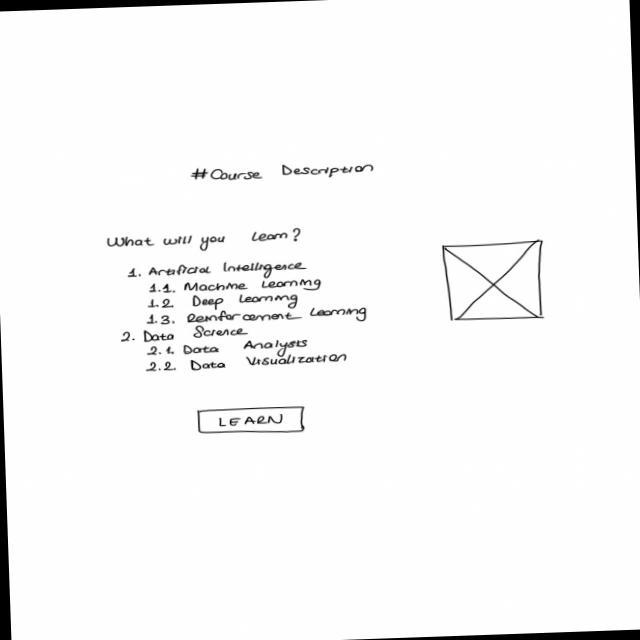button: (196, 405, 308, 437)
image: (442, 239, 548, 324)
label: (104, 227, 303, 255), (189, 161, 376, 184)
textbox: (116, 256, 371, 375)
